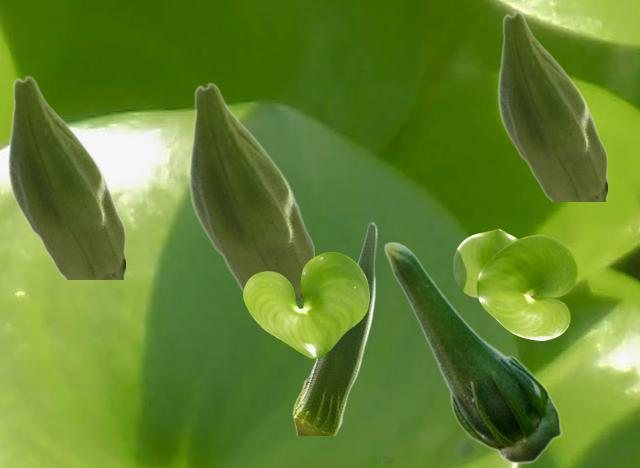okra: (383, 241, 561, 463), (188, 82, 313, 299), (7, 75, 124, 278), (497, 11, 606, 200), (292, 221, 376, 434)
